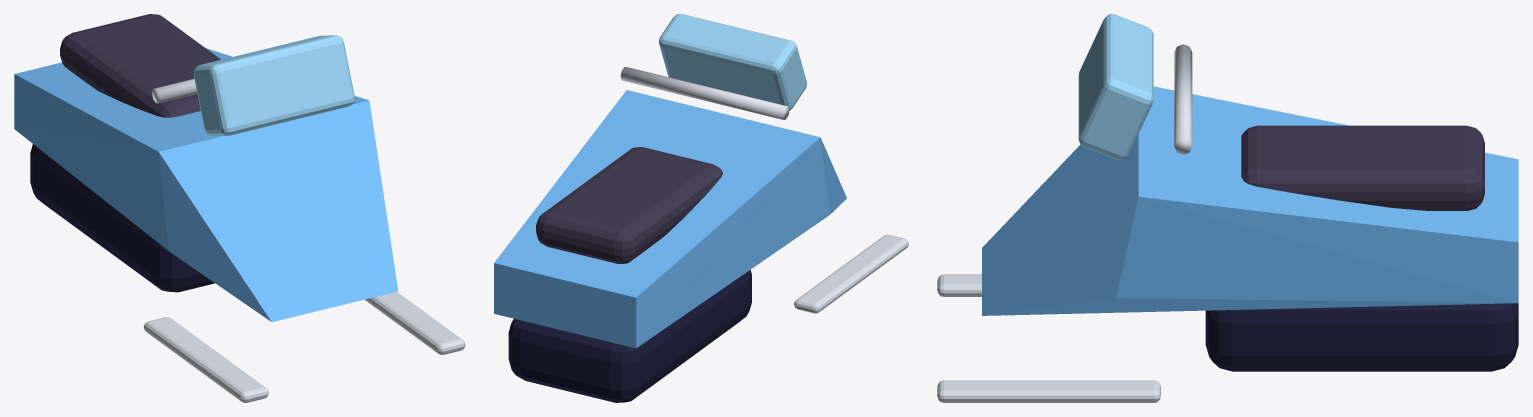
The model's file is Car_Snowmobile.fbx.
The picture shows the model from 3 angles, left to right: view 1: azimuth 30°, elevation 25°; view 2: azimuth 150°, elevation 25°; view 3: azimuth 270°, elevation 25°; orthographic projection. The views are drawn at different scales.
Visible parts, largest first — view 1: Car_Snowmobile; view 2: Car_Snowmobile; view 3: Car_Snowmobile.
Part boxes in pixels (bbox=[...]): Car_Snowmobile: bbox=[14, 14, 465, 402]; Car_Snowmobile: bbox=[494, 14, 908, 402]; Car_Snowmobile: bbox=[937, 14, 1518, 402].
Bounding box in the file's own units: 0.64 × 0.7349 × 1.3.
